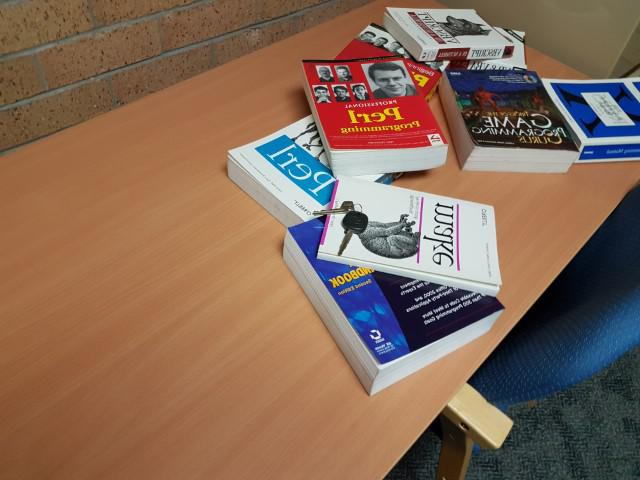key: (338, 211, 368, 257)
